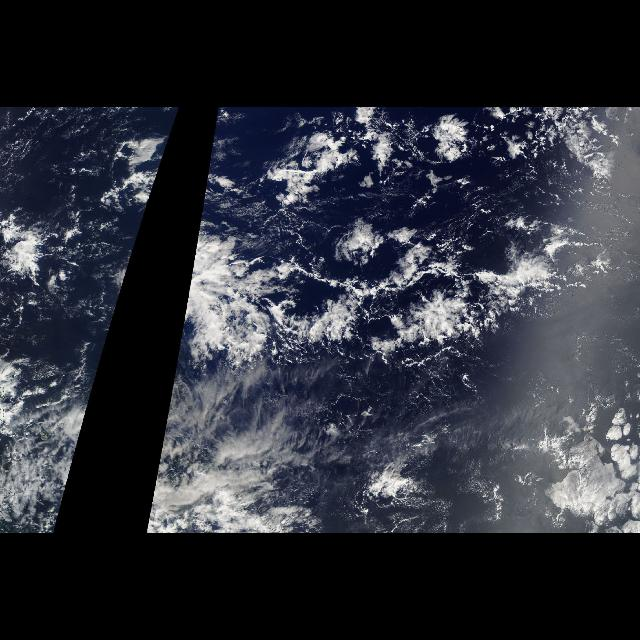Fish: (170, 118, 638, 398), (78, 198, 150, 398)
